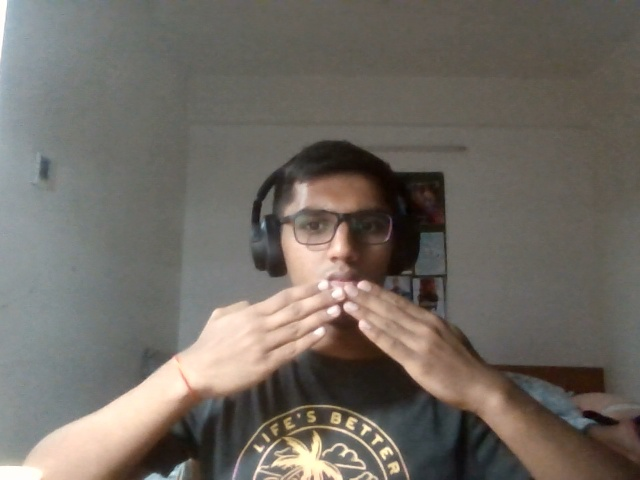thankyou: (185, 277, 495, 420)
